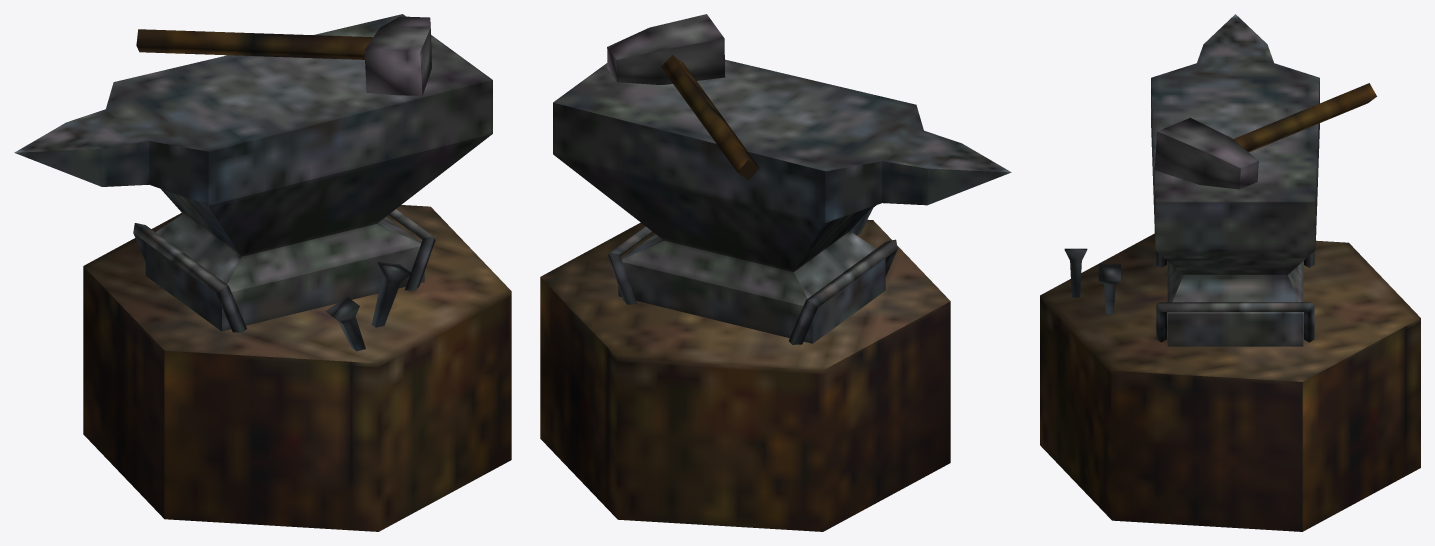
The model's file is b_general_obj_28_01.fbx.
3 renders of one model, left to right at view 1: azimuth 30°, elevation 25°; view 2: azimuth 150°, elevation 25°; view 3: azimuth 270°, elevation 25°, orthographic. The views are drawn at different scales.
Visible parts, largest first — view 1: Sphere01; view 2: Sphere01; view 3: Sphere01.
Part boxes in pixels (bbox=[...]): Sphere01: bbox=[14, 14, 511, 531]; Sphere01: bbox=[540, 14, 1011, 531]; Sphere01: bbox=[1040, 14, 1420, 531].
Size of the model in its own units: 1.15 by 0.9784 by 0.9366.
